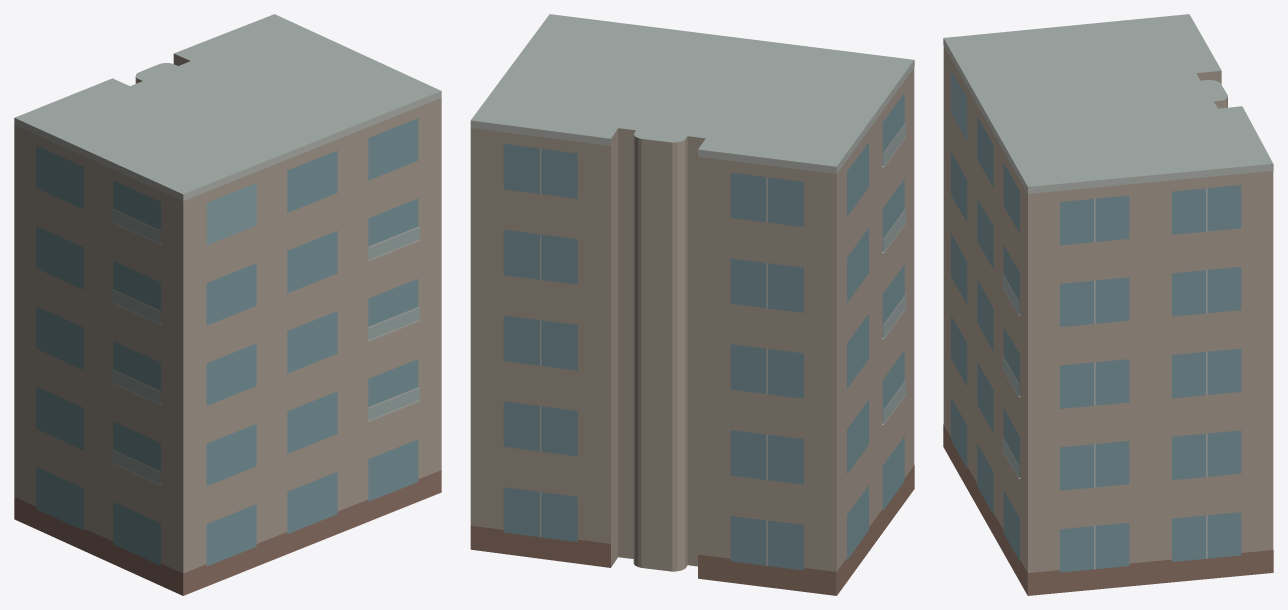
The model's file is survey-upis-32903982.glb.
3 renders of one model, left to right at view 1: azimuth 30°, elevation 25°; view 2: azimuth 150°, elevation 25°; view 3: azimuth 270°, elevation 25°, orthographic. The views are drawn at different scales.
Visible parts, largest first — view 1: survey-upis-32903982.tmp; view 2: survey-upis-32903982.tmp; view 3: survey-upis-32903982.tmp.
Part boxes in pixels (box(x1,y1,x2,y2)): survey-upis-32903982.tmp: box(14, 14, 441, 595); survey-upis-32903982.tmp: box(470, 14, 914, 595); survey-upis-32903982.tmp: box(943, 14, 1273, 595).
Bounding box in the file's own units: 12.93 × 14.25 × 10.43.
